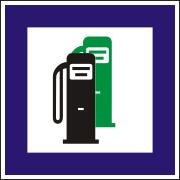Petrol Pump- Gas Station: (20, 17, 164, 158)
